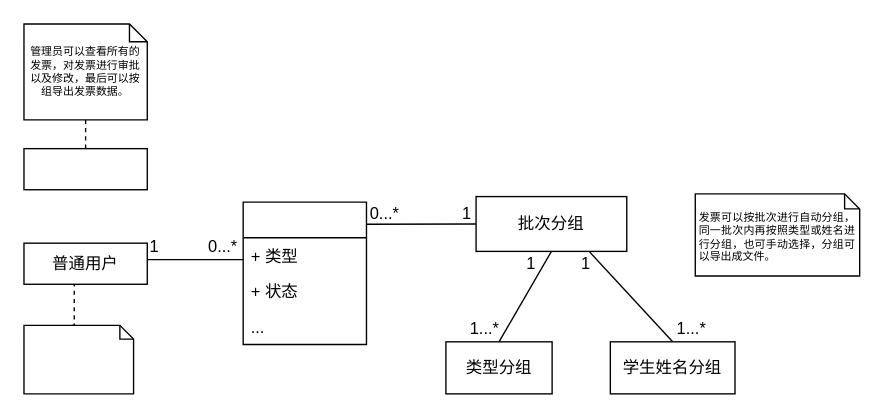
Some shapes in this 884 by 418 pixel diagram are drawn without their labels. The box of each missing label's shape, as (x1, y1, x2, y2) in pixels:
发票: (242, 201, 366, 345)
普通用户可以提交发票，查看自己发票的状态。: (23, 324, 134, 394)
管理员: (23, 147, 147, 190)
